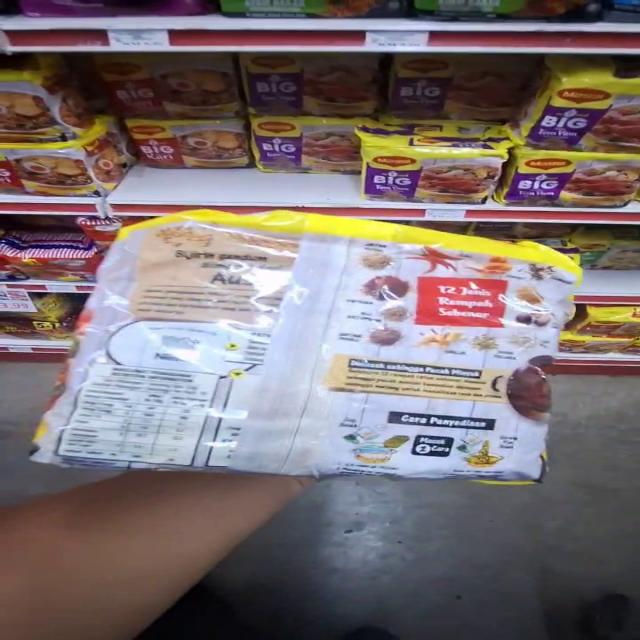Maggi: (64, 211, 573, 466), (359, 119, 505, 200), (518, 74, 640, 154), (6, 140, 135, 202), (506, 154, 640, 208), (124, 125, 253, 176), (0, 71, 93, 138), (250, 119, 360, 171)
